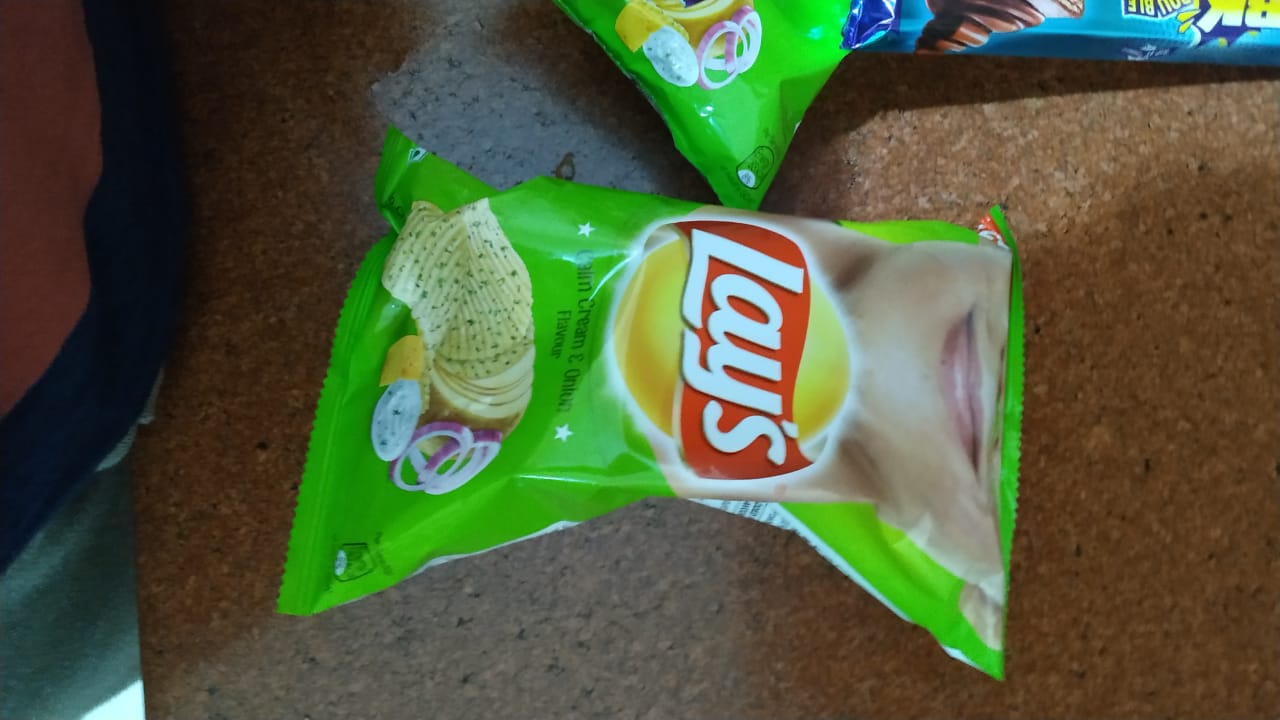lays chips: (241, 114, 1031, 691)
